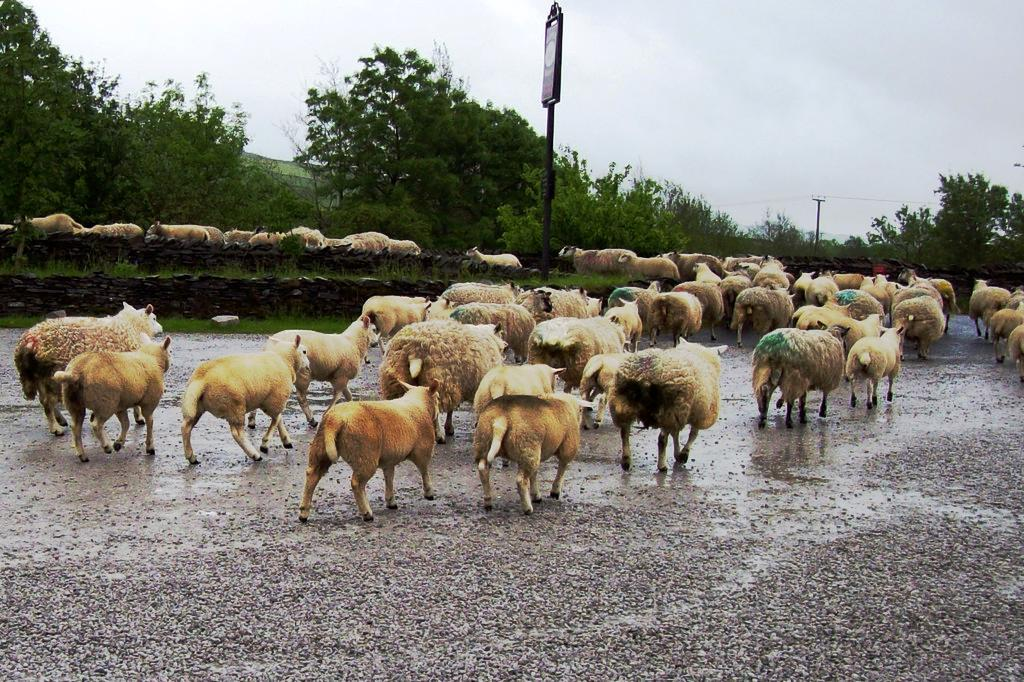Sheep: (296, 379, 458, 534), (10, 289, 168, 444), (598, 338, 724, 473), (182, 338, 304, 466), (380, 317, 506, 438), (54, 335, 173, 462), (472, 389, 590, 514), (265, 316, 376, 424), (528, 312, 626, 424), (752, 325, 846, 429), (474, 361, 569, 420), (448, 301, 535, 365), (844, 323, 904, 409), (360, 294, 432, 354), (898, 267, 961, 335), (889, 280, 940, 361), (606, 282, 670, 346), (728, 286, 792, 347), (887, 276, 943, 338), (670, 280, 724, 340), (647, 292, 704, 347), (831, 312, 888, 363), (558, 245, 641, 278), (825, 286, 893, 322), (968, 278, 1009, 337), (982, 305, 1022, 364), (438, 282, 518, 310), (616, 251, 680, 283), (719, 264, 757, 317), (656, 251, 724, 280), (787, 301, 856, 328), (116, 302, 166, 338), (144, 219, 210, 245), (605, 279, 663, 307), (465, 246, 524, 272), (321, 230, 389, 252), (859, 274, 894, 316), (801, 272, 839, 307), (520, 285, 589, 304), (81, 222, 144, 240), (1009, 323, 1024, 384), (790, 270, 816, 304), (757, 256, 788, 284), (606, 313, 630, 347), (879, 276, 906, 304), (424, 298, 458, 320), (512, 284, 546, 306), (692, 262, 722, 285), (831, 272, 865, 290), (584, 294, 604, 318), (866, 273, 891, 287), (510, 282, 528, 298), (502, 280, 518, 297), (1011, 284, 1024, 304), (412, 296, 434, 306), (818, 268, 836, 278), (890, 280, 906, 291)
